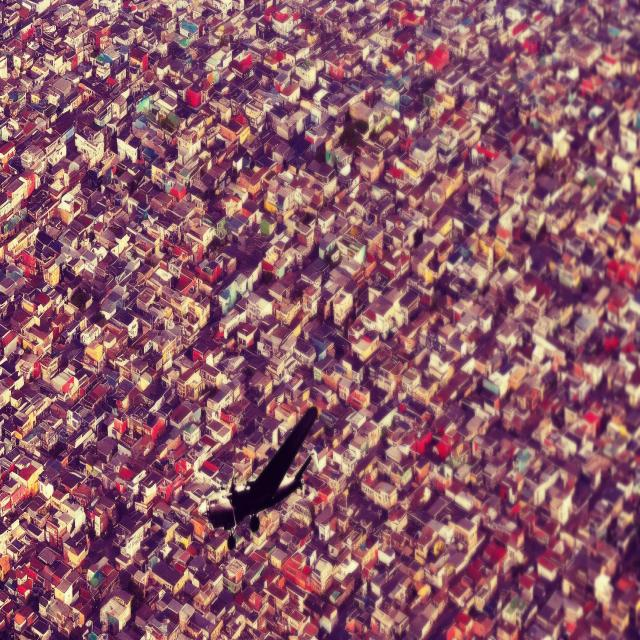airplane: (195, 404, 318, 547)
